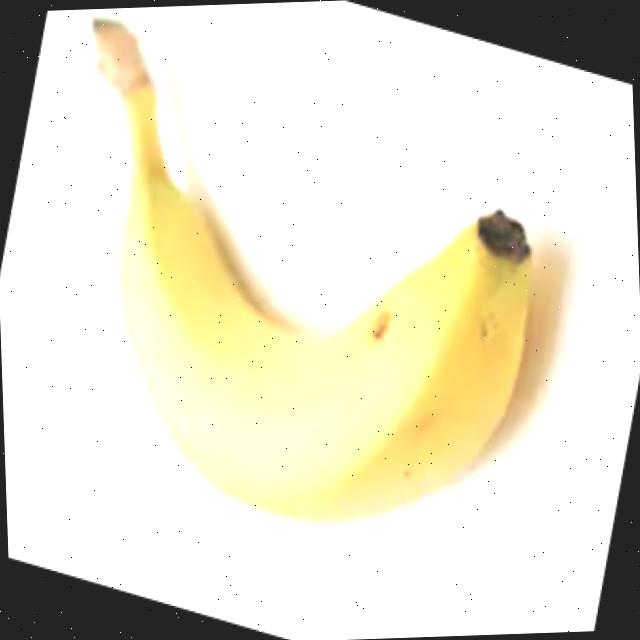Ripe: (102, 61, 544, 538)
